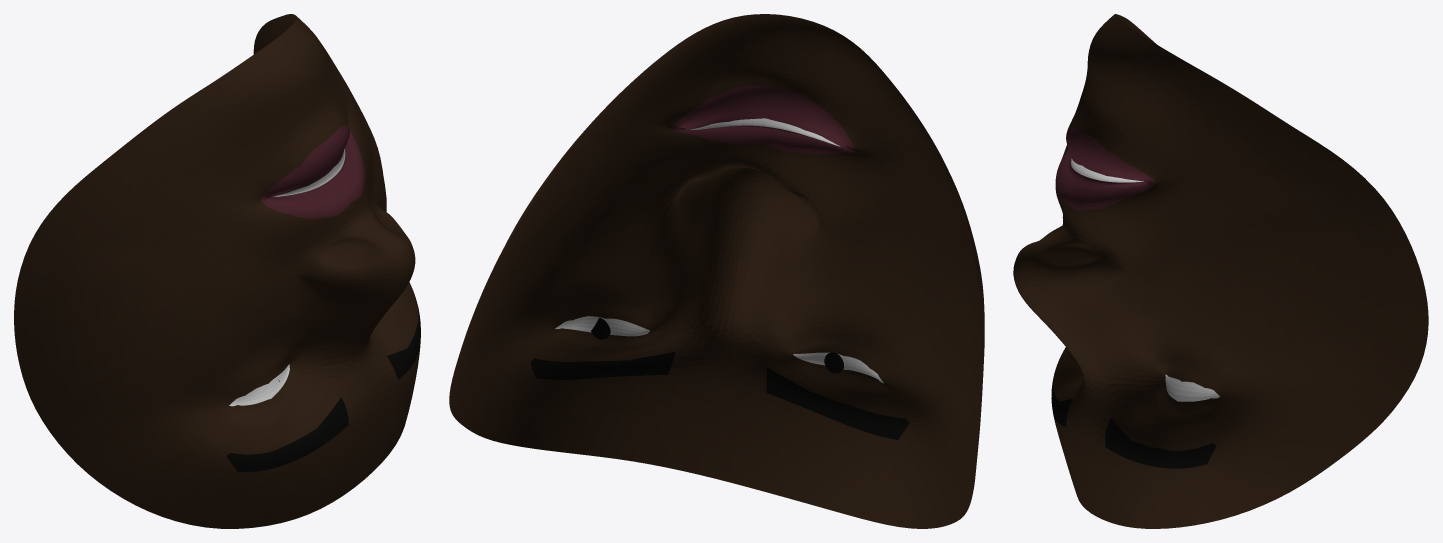
Rendered from frame_00096.obj.
3 views of the same model, side by side, from view 1: azimuth 30°, elevation 25°; view 2: azimuth 150°, elevation 25°; view 3: azimuth 270°, elevation 25° (orthographic). The views are drawn at different scales.
Visible parts, largest first — view 1: face_mesh_subdivided; view 2: face_mesh_subdivided; view 3: face_mesh_subdivided.
Boxes of the visible parts, left/top/right/bottom form: face_mesh_subdivided: left=14, top=14, right=420, bottom=528; face_mesh_subdivided: left=449, top=14, right=984, bottom=528; face_mesh_subdivided: left=1013, top=14, right=1428, bottom=528.
Size of the model in its own units: 0.4998 by 0.5402 by 0.4352.
